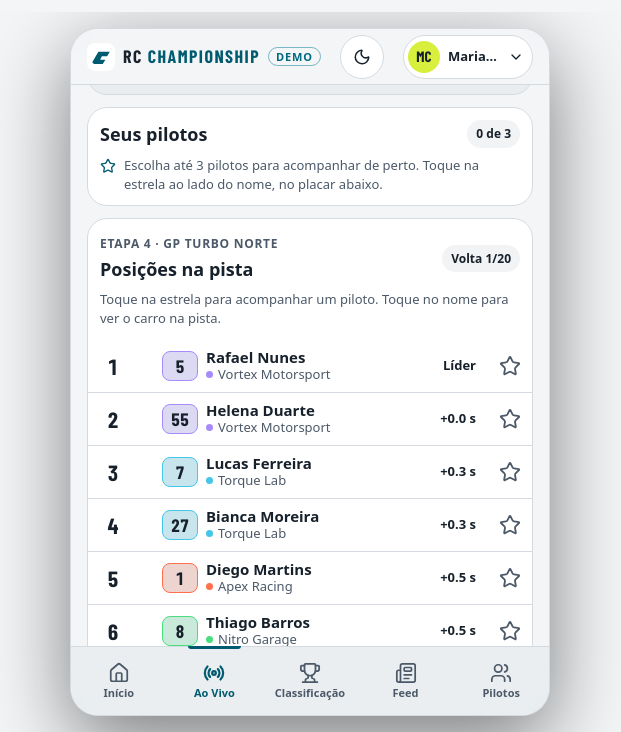
pilotos preferidos no Ao Vivo › também dá para tirar um preferido pela própria faixa "Seus pilotos"
(page scrolled)
Click the button named "Acompanhar Rafael Nunes" at [510, 366], box [488,340,532,392]
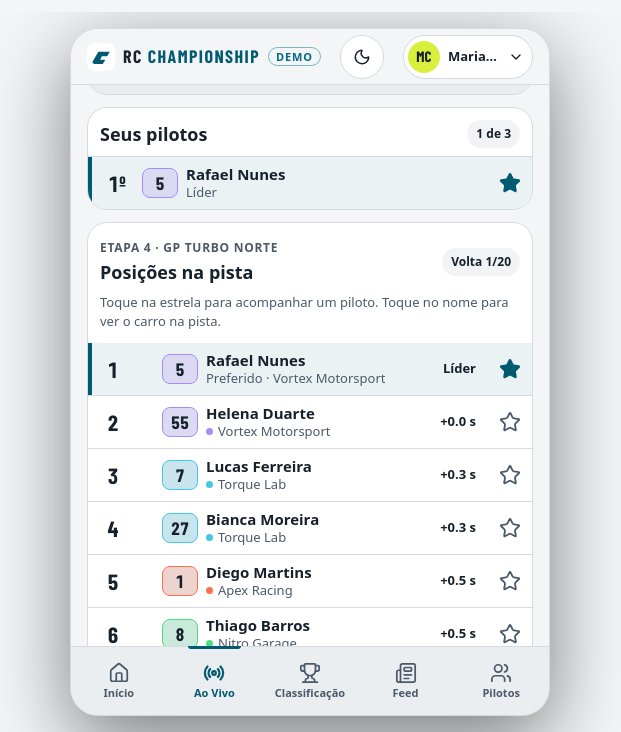
Click the 1st button named "Acompanhar Rafael Nunes" at [510, 183], box [488,157,532,209]
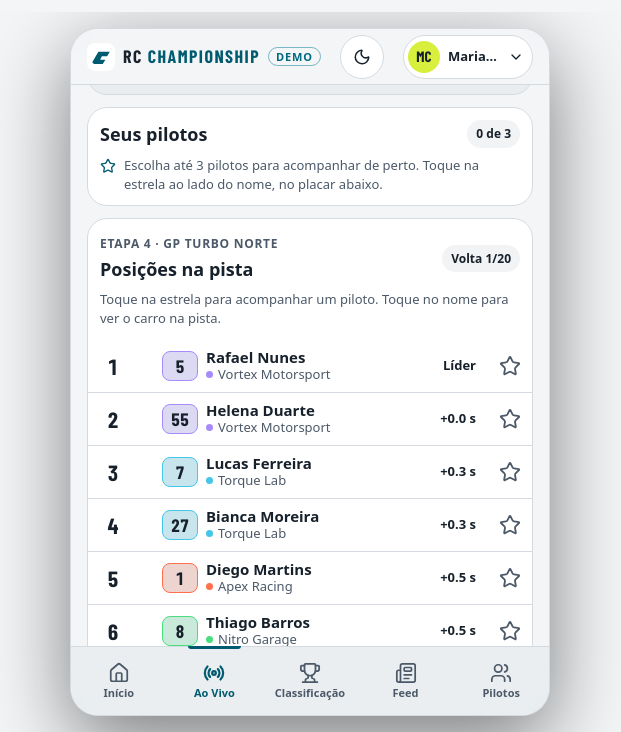
Expected: the text "0 de 3" is shown, [467,120,520,148]
